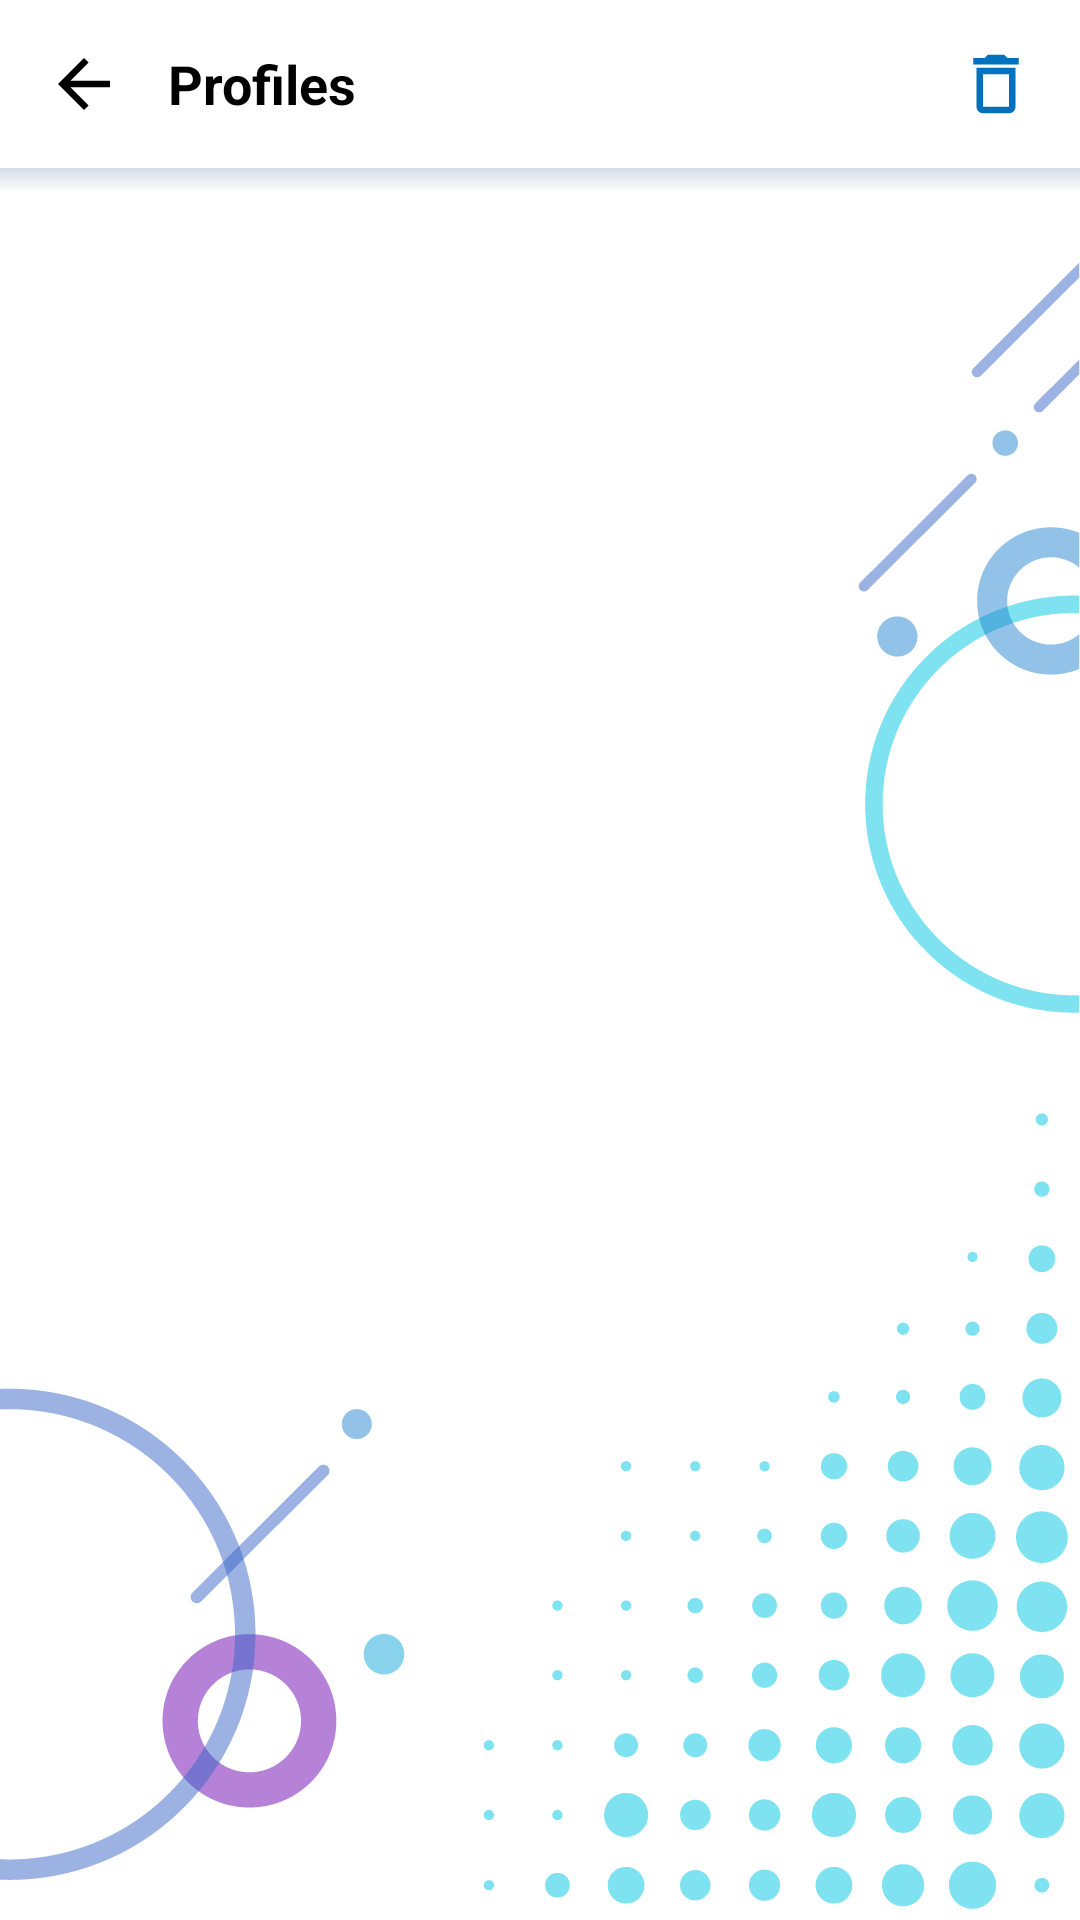

Where to tap for icons on this 1080 x 1920 app screen, as point (x, y):
back: point (84, 84)
delete: point (996, 84)
